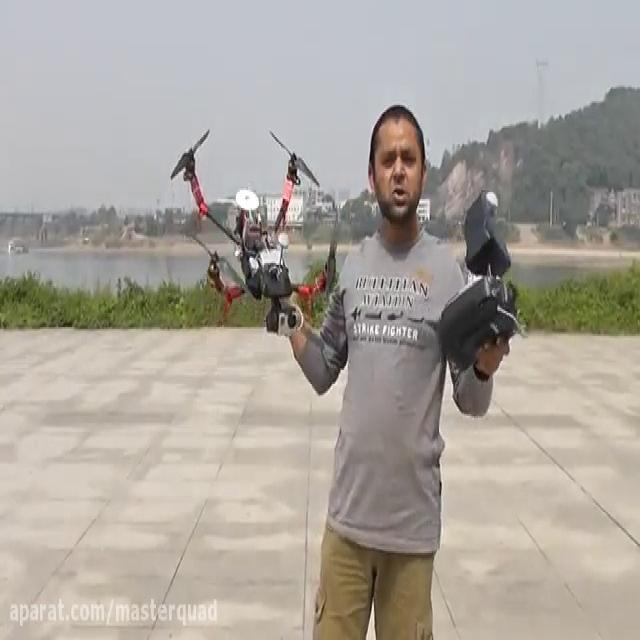drone: (167, 124, 339, 338)
